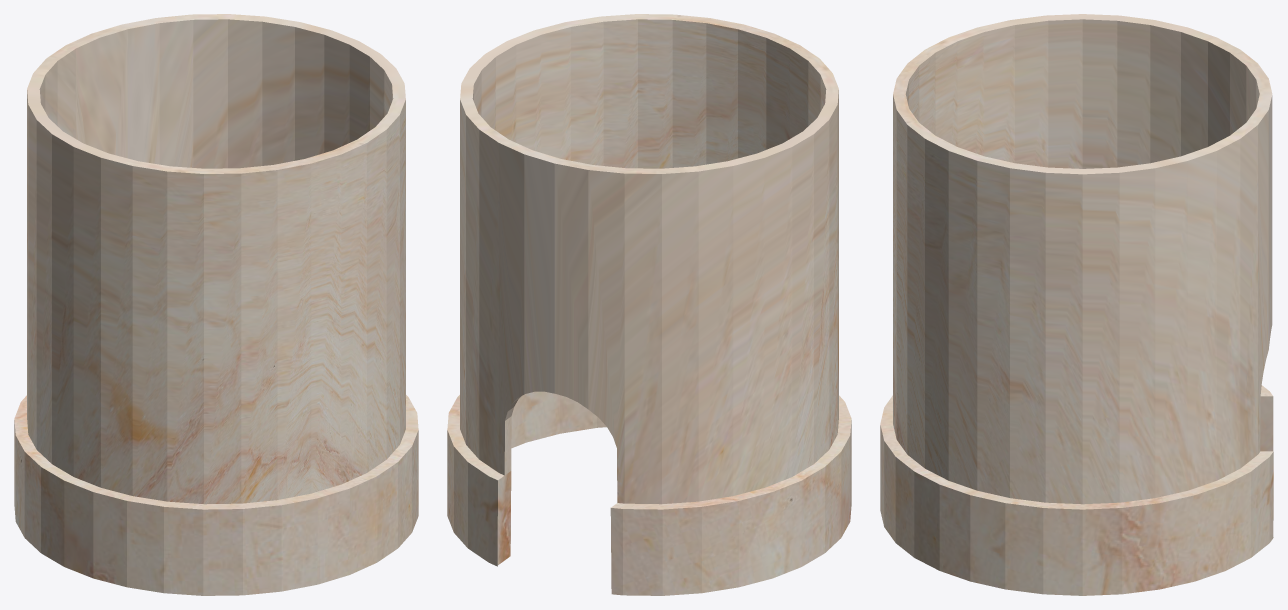
File: фасад.fbx
3 views of the same model, side by side, from view 1: azimuth 30°, elevation 25°; view 2: azimuth 150°, elevation 25°; view 3: azimuth 270°, elevation 25° (orthographic).
Visible parts, largest first — view 1: Фасад; view 2: Фасад; view 3: Фасад.
Boxes of the visible parts, x1,y1,x2,y2 form: Фасад: [14, 14, 418, 595]; Фасад: [447, 14, 851, 595]; Фасад: [880, 14, 1273, 595].
Bounding box in the file's own units: 8000 × 9076 × 7773.
1 material, 1 textured.
